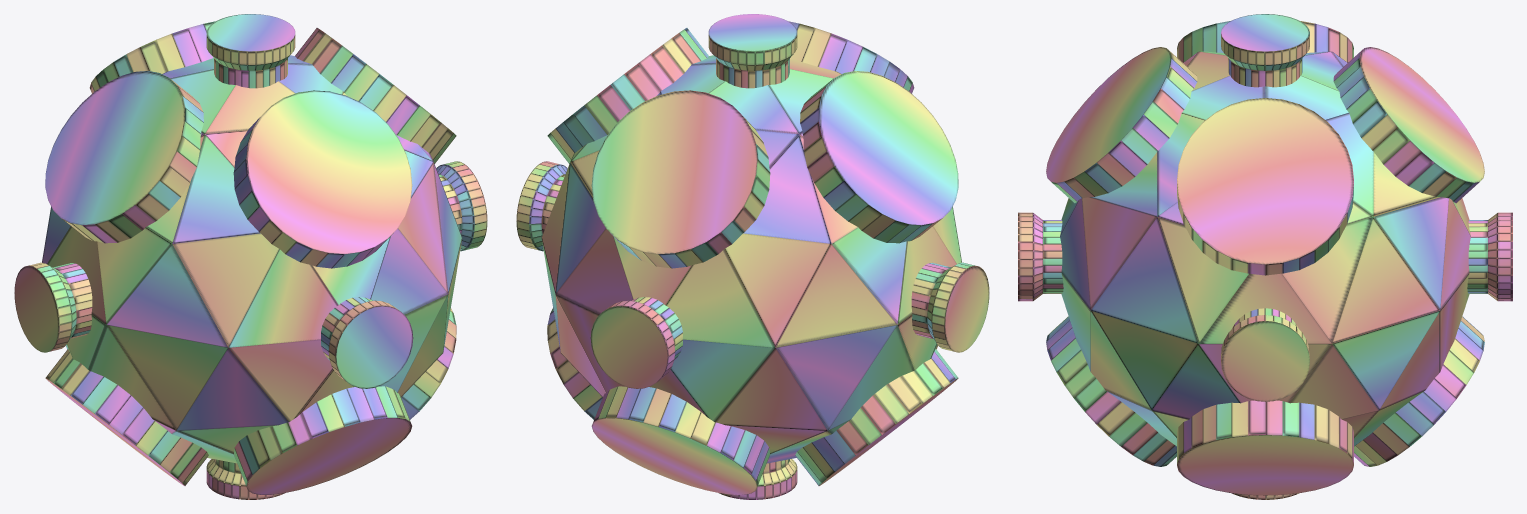
The model's file is Junction.obj.
3 renders of one model, left to right at view 1: azimuth 30°, elevation 25°; view 2: azimuth 150°, elevation 25°; view 3: azimuth 270°, elevation 25°, orthographic.
Visible parts, largest first — view 1: Cylinder; view 2: Cylinder; view 3: Cylinder.
Boxes of the visible parts, x1=… form: Cylinder: x1=14, y1=14, x2=487, y2=499; Cylinder: x1=516, y1=14, x2=989, y2=499; Cylinder: x1=1018, y1=14, x2=1512, y2=499.
Size of the model in its own units: 1 by 1 by 1.
